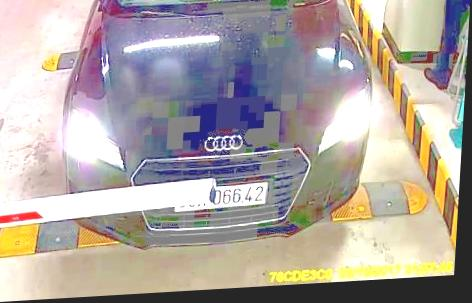License_Plate: (167, 175, 274, 214)
